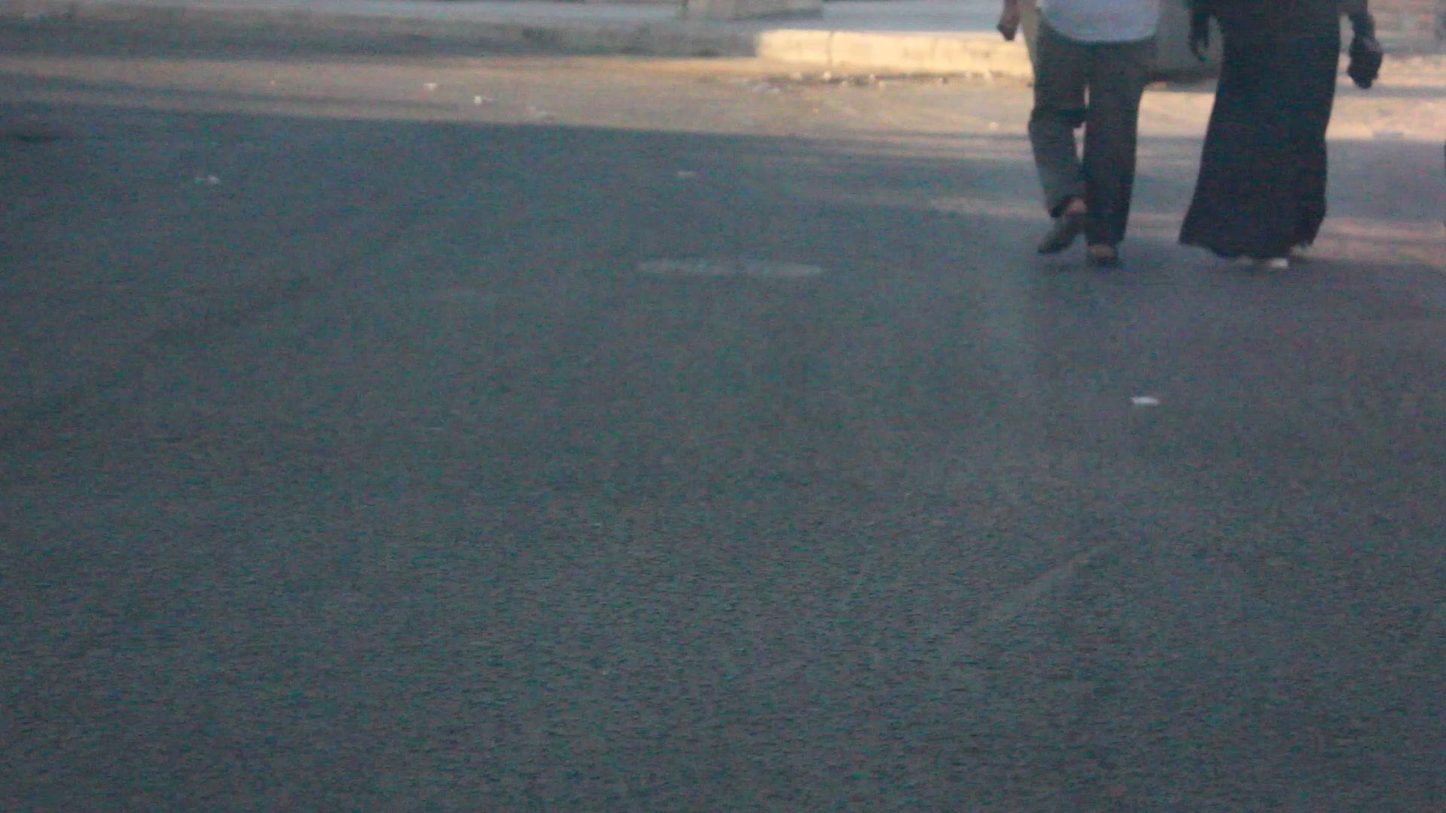Bump: (0, 486, 1446, 813)
